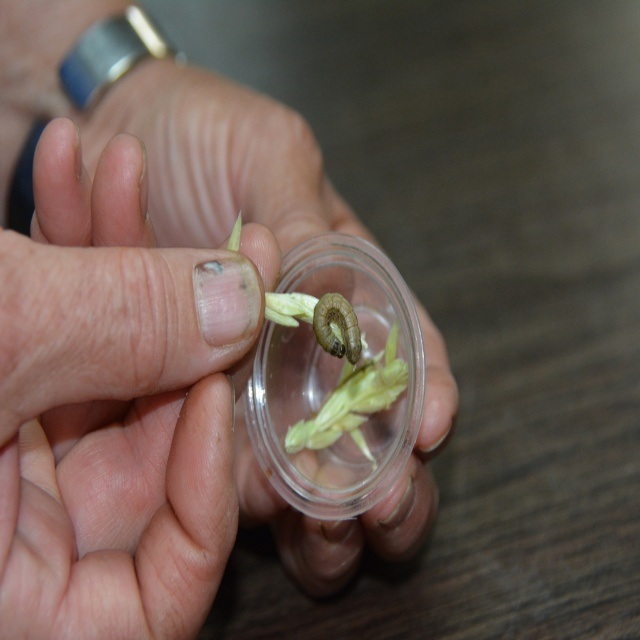Caterpillar: (314, 294, 362, 366)
